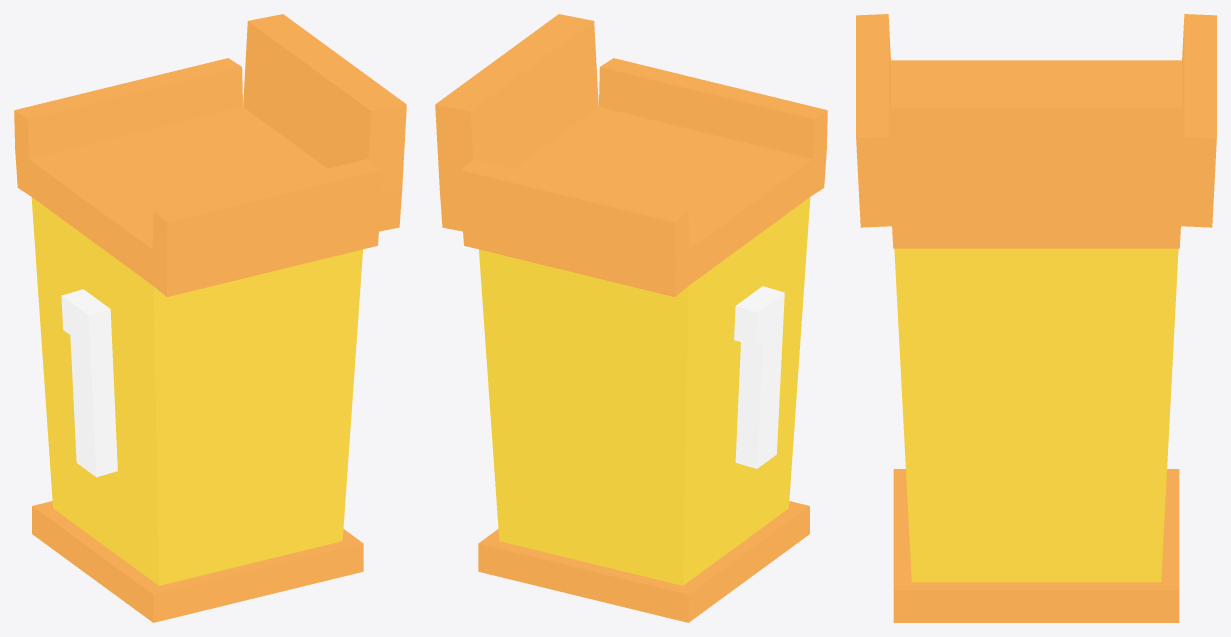
The model's file is Mesh_AutoPetRacers.glb.
3 renders of one model, left to right at view 1: azimuth 30°, elevation 25°; view 2: azimuth 150°, elevation 25°; view 3: azimuth 270°, elevation 25°, orthographic. The views are drawn at different scales.
Parts seen in each view (by area): view 1: Cube.101; view 2: Cube.101; view 3: Cube.101.
Boxes of the visible parts, box(x1,y1,x2,y2) form: Cube.101: box(14, 14, 406, 622); Cube.101: box(435, 14, 827, 622); Cube.101: box(856, 14, 1216, 622).
Bounding box in the file's own units: 2.08 × 3.35 × 2.02.
